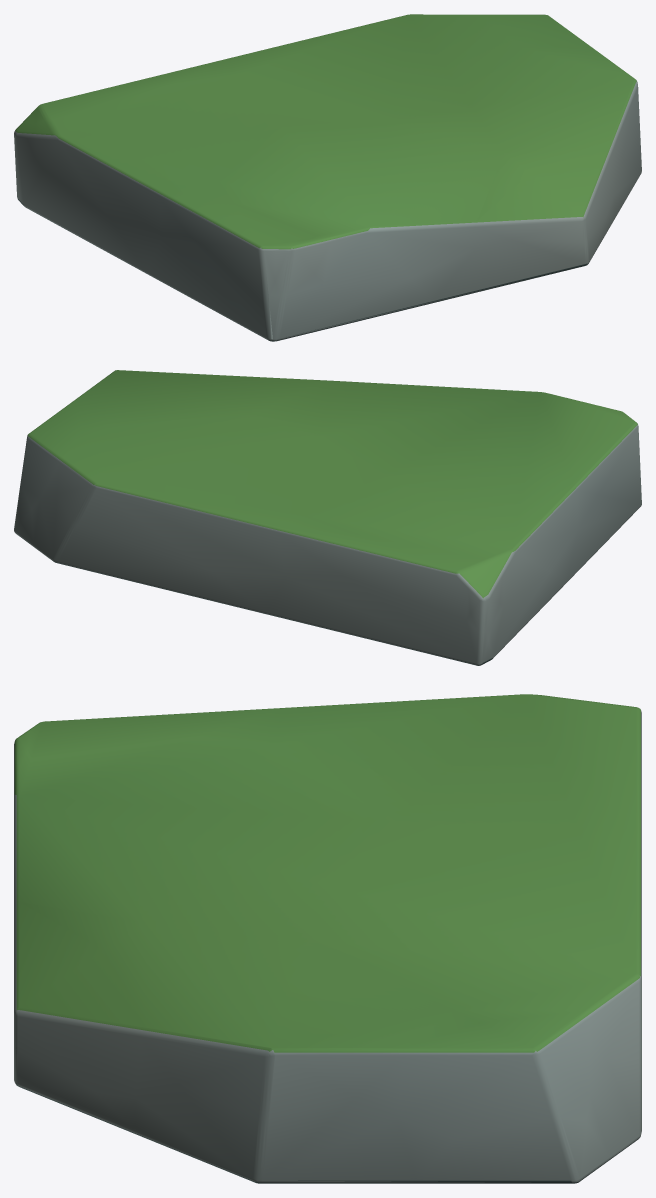
The model's file is grotto_rim_shelf.glb.
3 renders of one model, top to bottom at view 1: azimuth 30°, elevation 25°; view 2: azimuth 150°, elevation 25°; view 3: azimuth 270°, elevation 25°, orthographic. The views are drawn at different scales.
Visible parts, largest first — view 1: grotto_rim_shelf; view 2: grotto_rim_shelf; view 3: grotto_rim_shelf.
Part boxes in pixels (x1,y1,x2,y2): grotto_rim_shelf: (14,14,641,341); grotto_rim_shelf: (14,370,641,665); grotto_rim_shelf: (14,694,641,1183).
Size of the model in its own units: 5.76 by 1 by 4.2.
